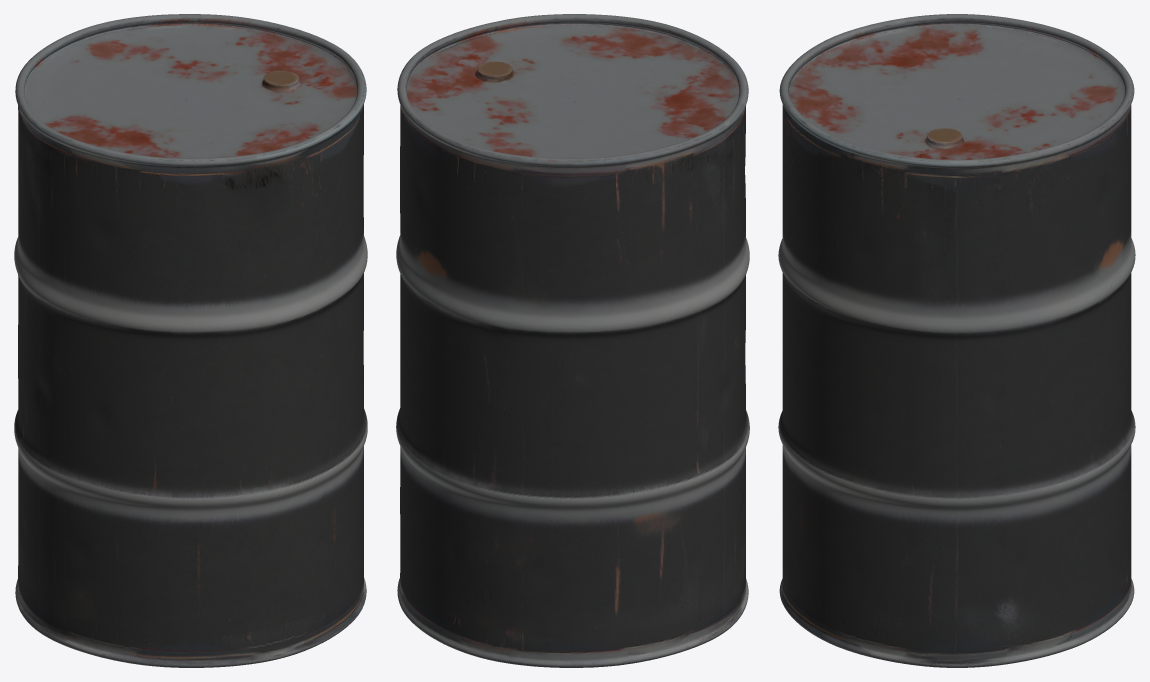
File: oil-barrel.glb
3 views of the same model, side by side, from view 1: azimuth 30°, elevation 25°; view 2: azimuth 150°, elevation 25°; view 3: azimuth 270°, elevation 25° (orthographic).
Size of the model in its own units: 1.28 by 2 by 1.28.
Materials: 1 (1 with a texture image).
